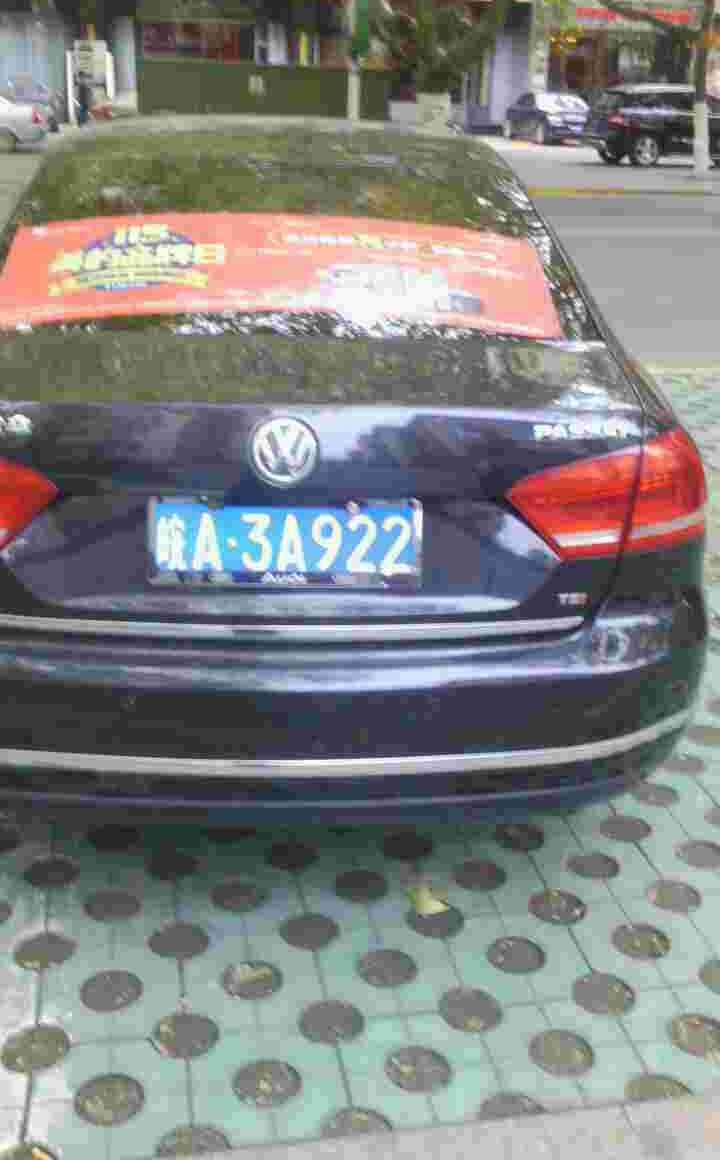license_plate: (158, 500, 428, 587)
